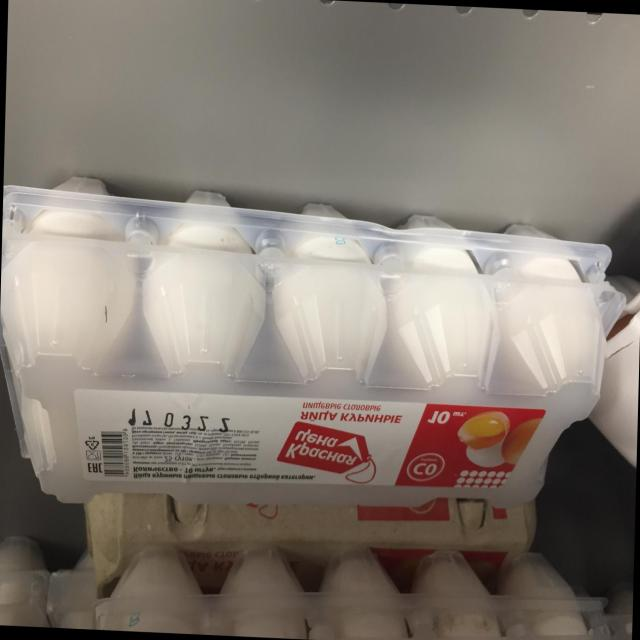organic waste: (0, 167, 628, 527)
